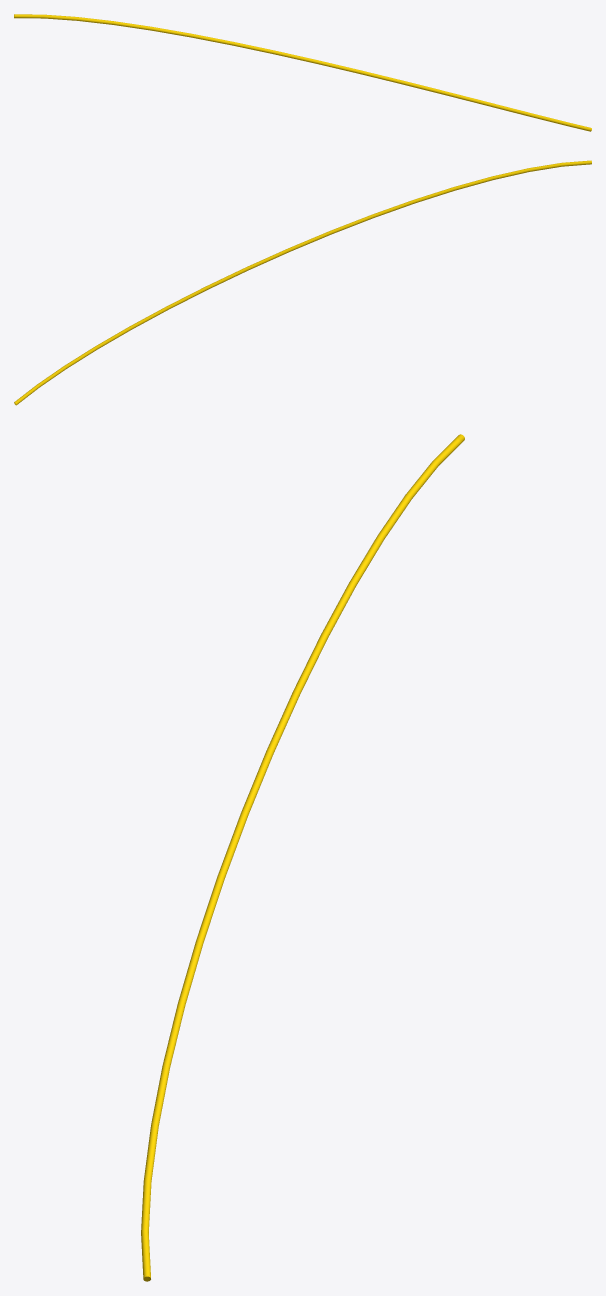
File: Event_421115418_track_72.fbx
The picture shows the model from 3 angles, top to bottom: view 1: azimuth 30°, elevation 25°; view 2: azimuth 210°, elevation 25°; view 3: azimuth 270°, elevation 25°; orthographic projection. The views are drawn at different scales.
Visible parts, largest first — view 1: Model; view 2: Model; view 3: Model.
Part boxes in pixels (bbox=[...]): Model: bbox=[14, 14, 591, 131]; Model: bbox=[14, 160, 591, 405]; Model: bbox=[141, 434, 464, 1281].
Size of the model in its own units: 5.87 by 2.03 by 1.65.
